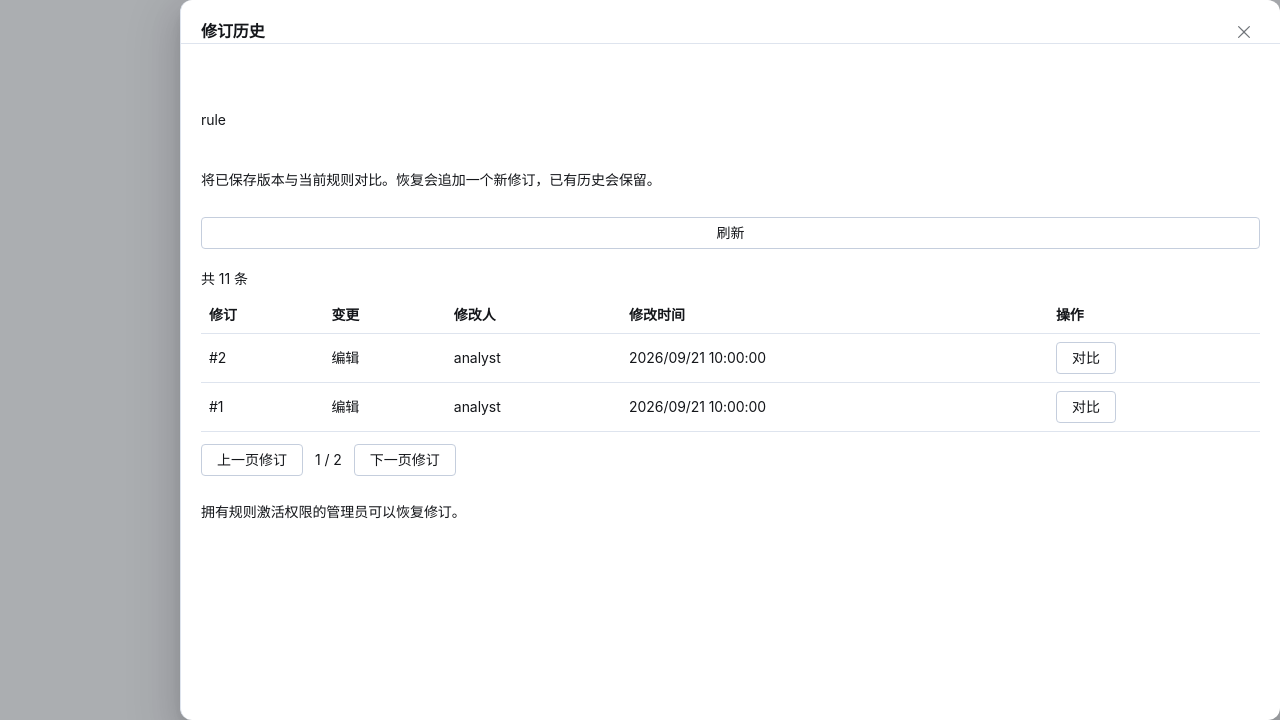
it: rule revision review › keeps history browseable for an analyst without exposing a restore control
Click the button "对比" in the row of "#2". click: [1086, 358]
box: x1=1056 y1=342 x2=1116 y2=374
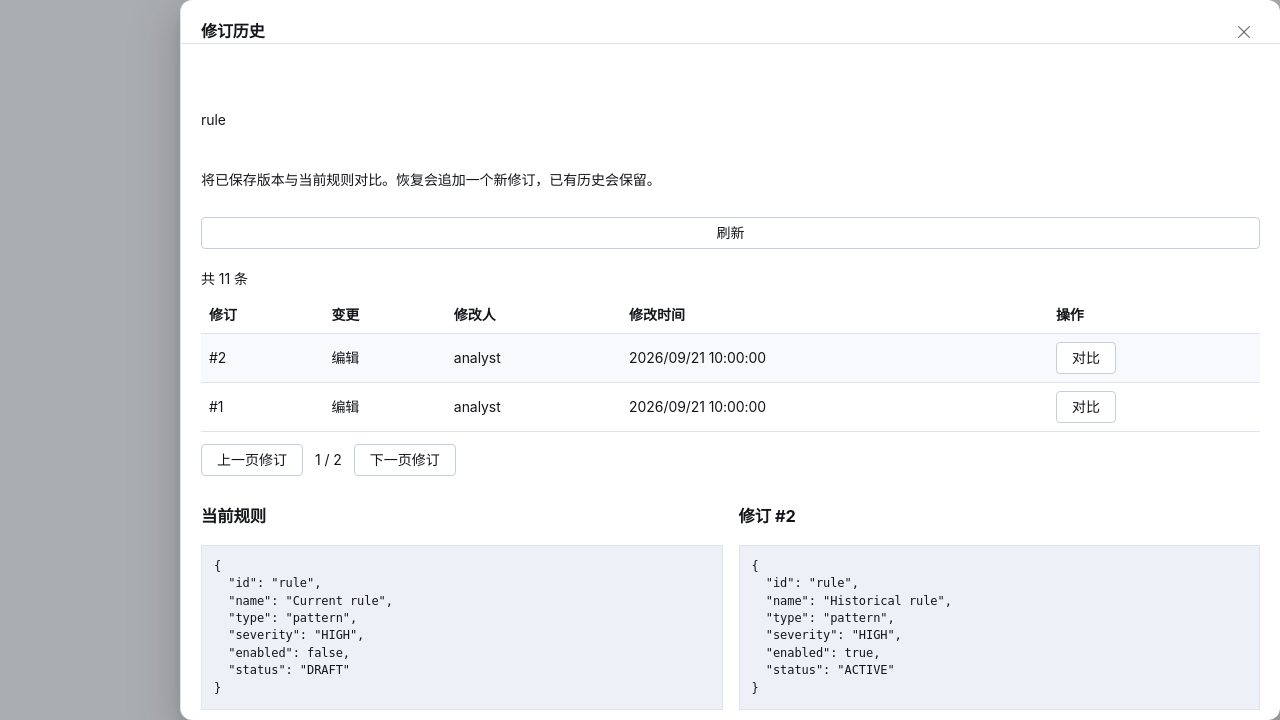
Now the text "Historical rule" is shown, box x1=752 y1=559 x2=952 y2=695
